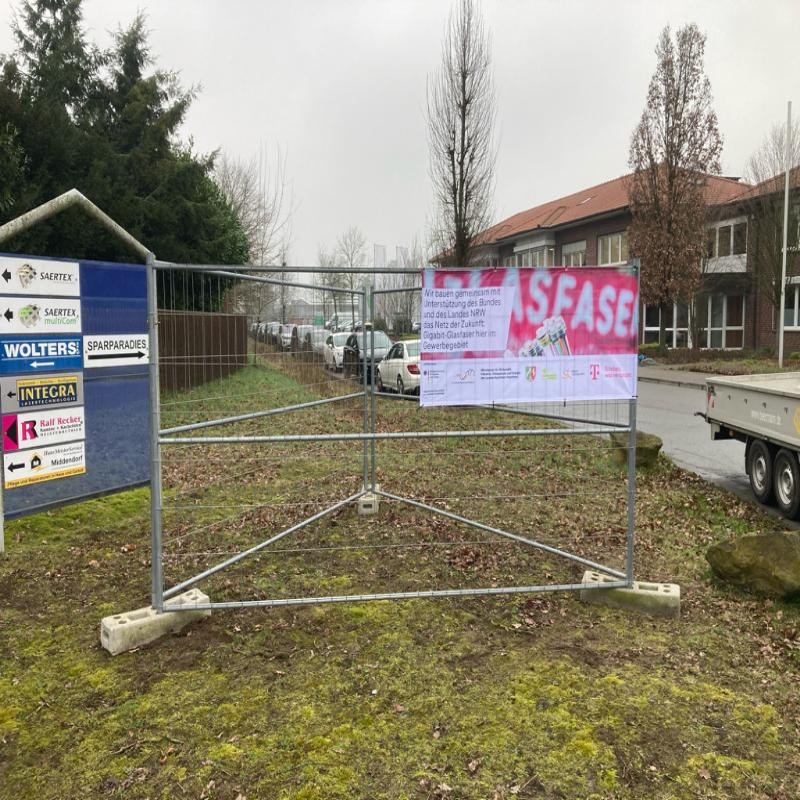Banner: (412, 264, 642, 415)
